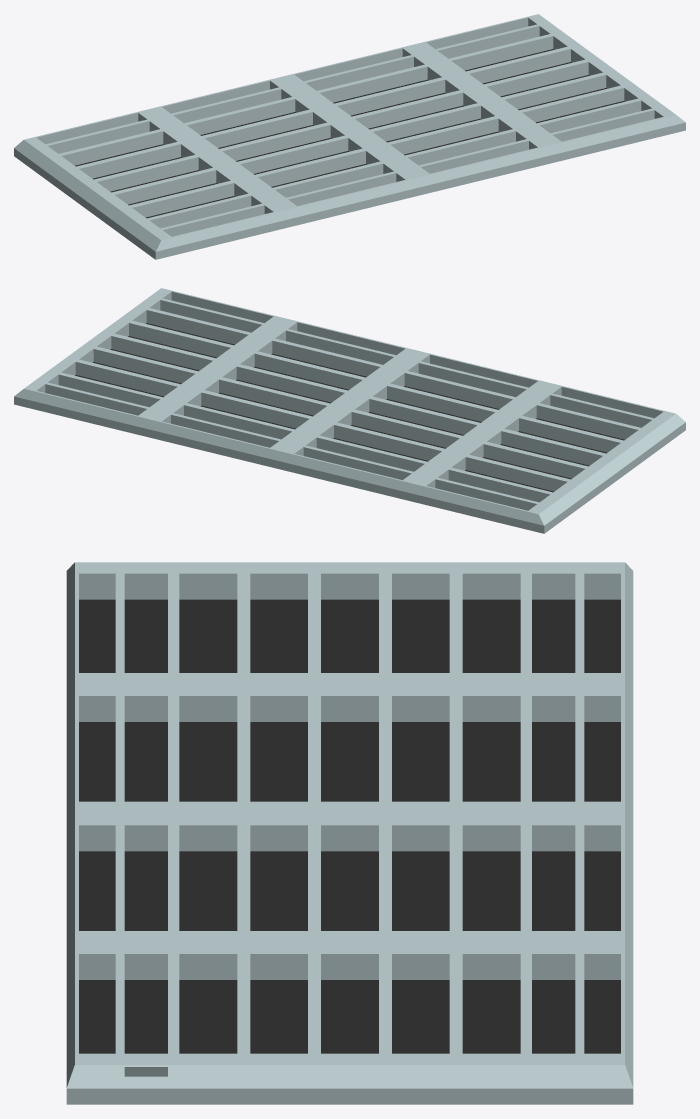
Rendered from Floor_Drain.fbx.
The picture shows the model from 3 angles, top to bottom: view 1: azimuth 30°, elevation 25°; view 2: azimuth 150°, elevation 25°; view 3: azimuth 270°, elevation 25°; orthographic projection. The views are drawn at different scales.
Parts seen in each view (by area): view 1: Floor_Thingy; view 2: Floor_Thingy; view 3: Floor_Thingy.
Boxes of the visible parts, x1,y1,x2,y2 form: Floor_Thingy: (14, 14, 685, 259); Floor_Thingy: (14, 288, 685, 533); Floor_Thingy: (66, 562, 633, 1104).
Size of the model in its own units: 2 by 0.0596 by 0.9256.
